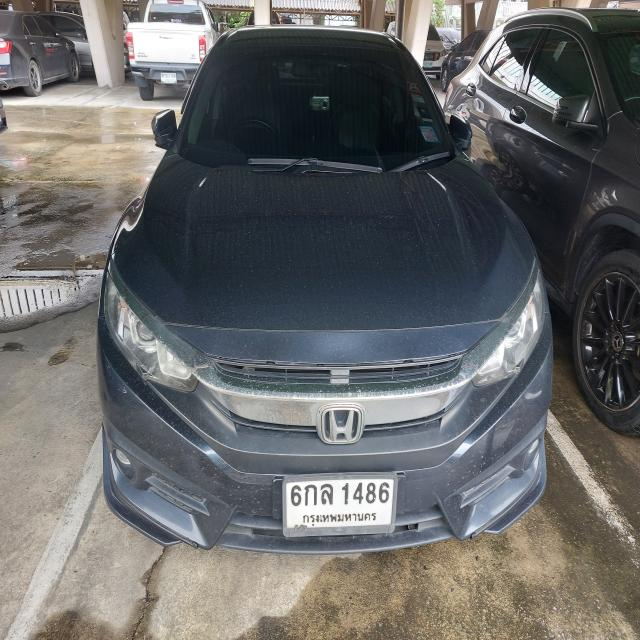license_plate: (281, 469, 403, 539), (159, 68, 178, 86)
